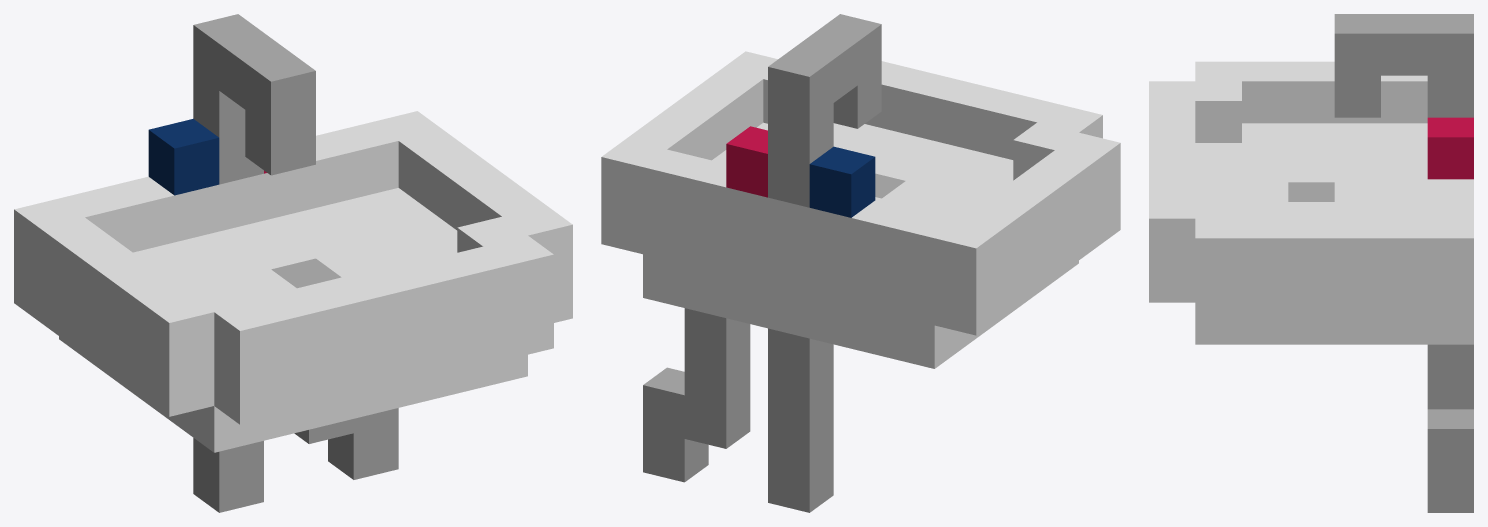
File: sink.obj
3 renders of one model, left to right at view 1: azimuth 30°, elevation 25°; view 2: azimuth 150°, elevation 25°; view 3: azimuth 270°, elevation 25°, orthographic. The views are drawn at different scales.
Bounding box in the file's own units: 0.9 × 1 × 0.7.
1 material, 1 textured.
